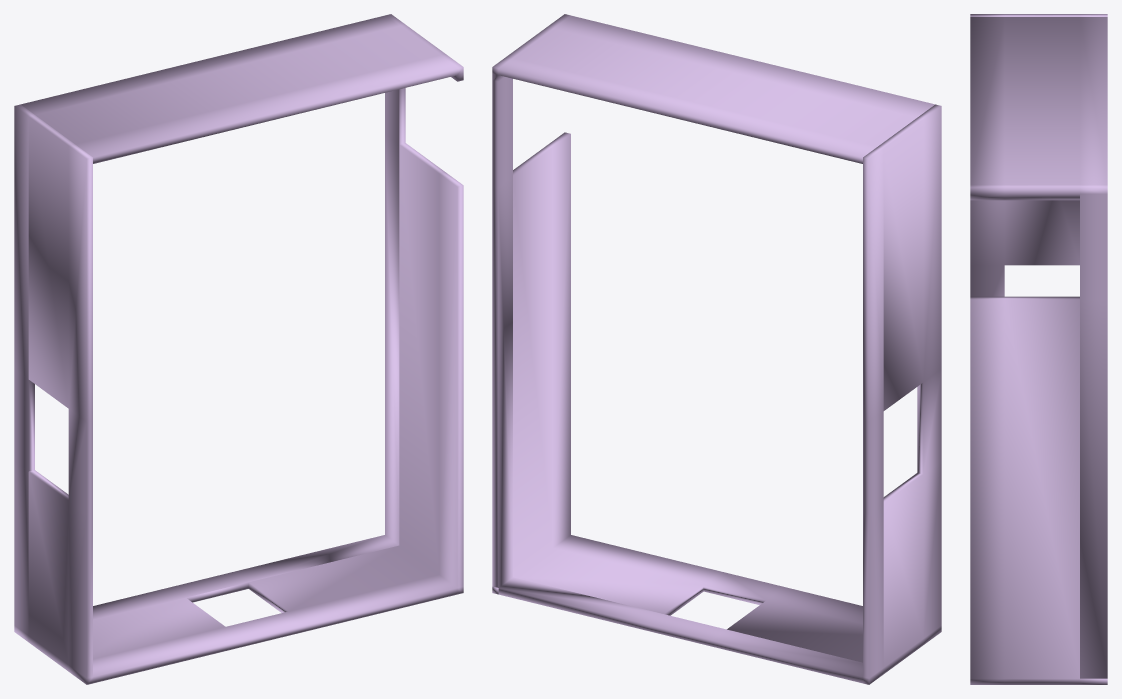
The model's file is wall_bedroom_v1.fbx.
3 views of the same model, side by side, from view 1: azimuth 30°, elevation 25°; view 2: azimuth 150°, elevation 25°; view 3: azimuth 270°, elevation 25° (orthographic). The views are drawn at different scales.
Parts seen in each view (by area): view 1: Cube.001; view 2: Cube.001; view 3: Cube.001.
Part boxes in pixels (bbox=[...]): Cube.001: bbox=[14, 14, 463, 684]; Cube.001: bbox=[492, 14, 941, 684]; Cube.001: bbox=[970, 14, 1107, 684].
Size of the model in its own units: 0.03 by 0.04 by 0.01.
